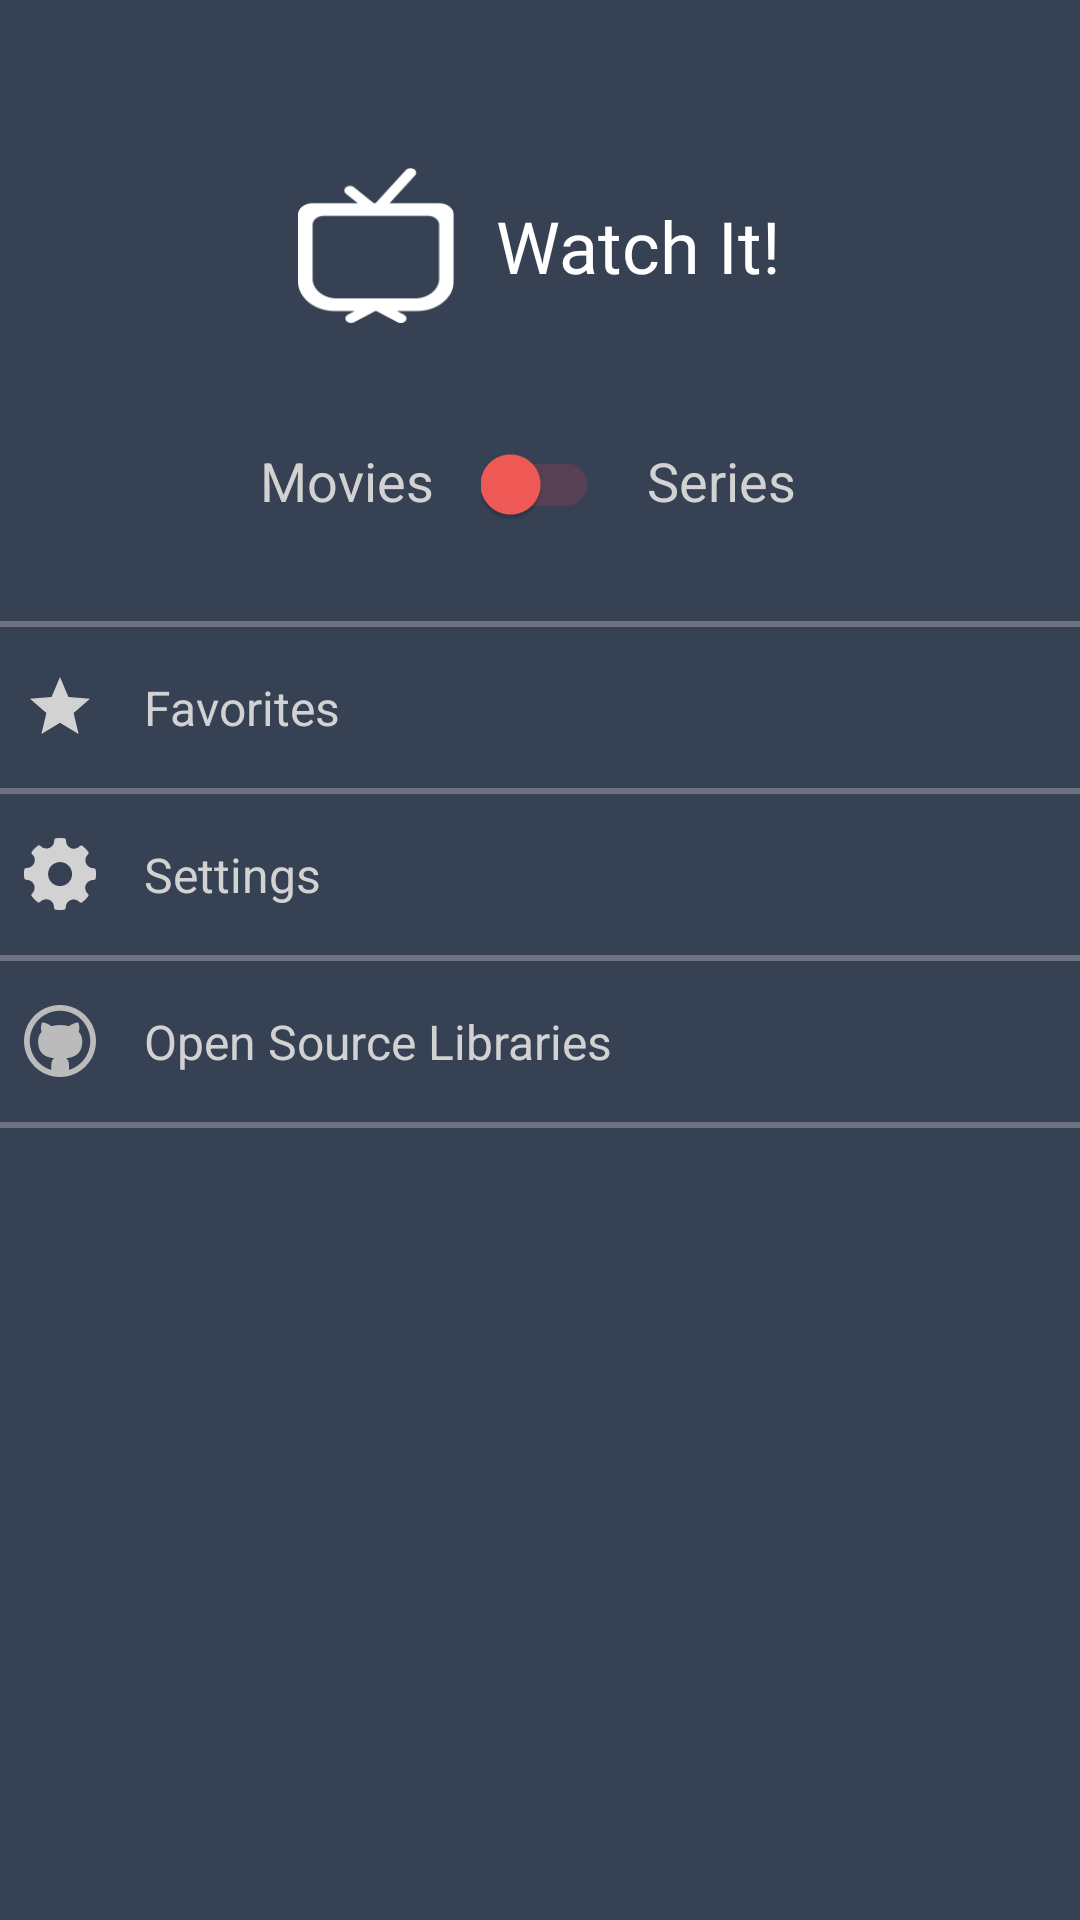

Icon bounding boxes for this 1080x1920 phone screenshot, format detection(x1, y1, x2, y2):
star: detection(30, 677, 90, 734)
